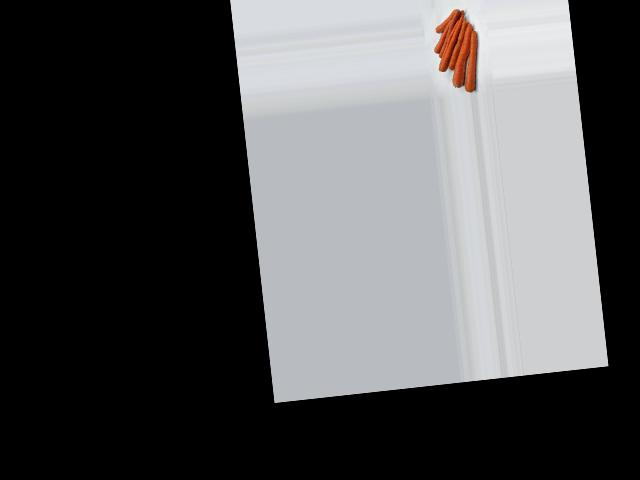carrot: (428, 7, 464, 32)
